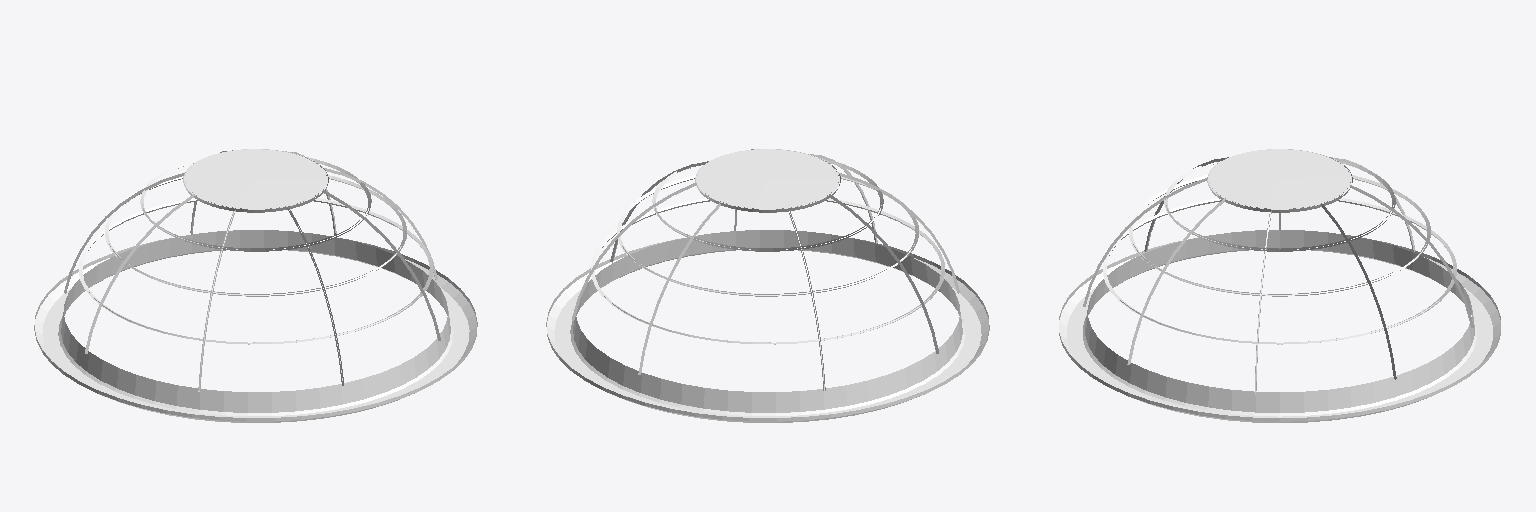
Rendered from parlor.obj.
The picture shows the model from 3 angles: view 1: azimuth 30°, elevation 25°; view 2: azimuth 150°, elevation 25°; view 3: azimuth 270°, elevation 25°; orthographic projection.
Parts seen in each view (by area): view 1: Combined Mesh scene_ set1 polySurface2; view 2: Combined Mesh scene_ set1 polySurface2; view 3: Combined Mesh scene_ set1 polySurface2.
Boxes of the visible parts, x1,y1,x2,y2 form: Combined Mesh scene_ set1 polySurface2: [34, 149, 477, 422]; Combined Mesh scene_ set1 polySurface2: [546, 149, 989, 422]; Combined Mesh scene_ set1 polySurface2: [1059, 149, 1500, 422].
Bounding box in the file's own units: 10.44 × 4 × 10.42.